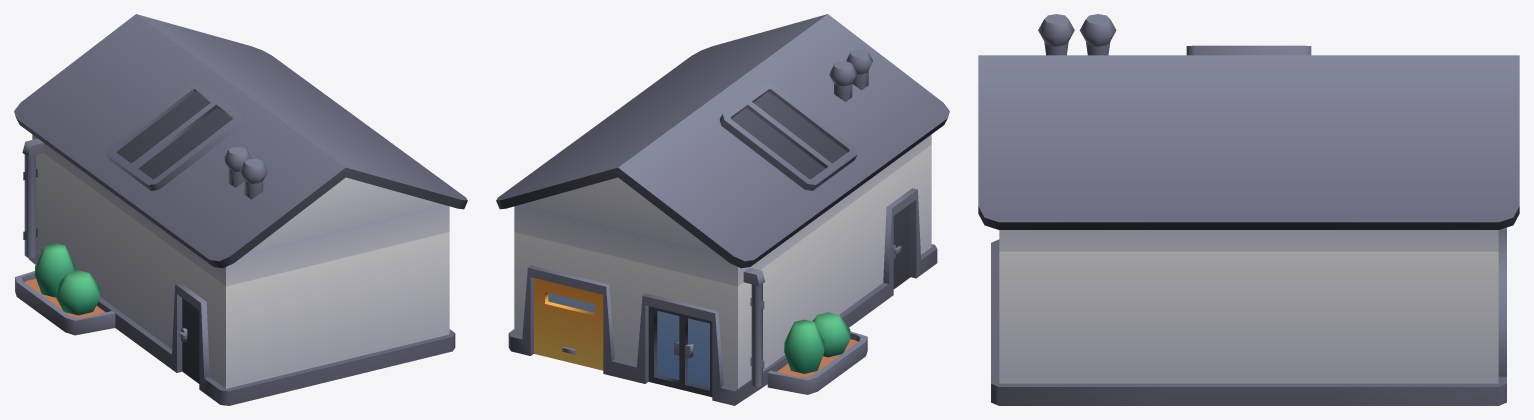
Rendered from building-i.lod.glb.
3 views of the same model, side by side, from view 1: azimuth 30°, elevation 25°; view 2: azimuth 150°, elevation 25°; view 3: azimuth 270°, elevation 25° (orthographic). The views are drawn at different scales.
Parts seen in each view (by area): view 1: building-i; view 2: building-i; view 3: building-i.
Part boxes in pixels (x1,y1,x2,y2): building-i: (14, 14, 467, 405); building-i: (496, 14, 949, 405); building-i: (978, 14, 1519, 405).
Size of the model in its own units: 1.03 by 0.7336 by 1.3.
Materials: 1 (1 with a texture image).
